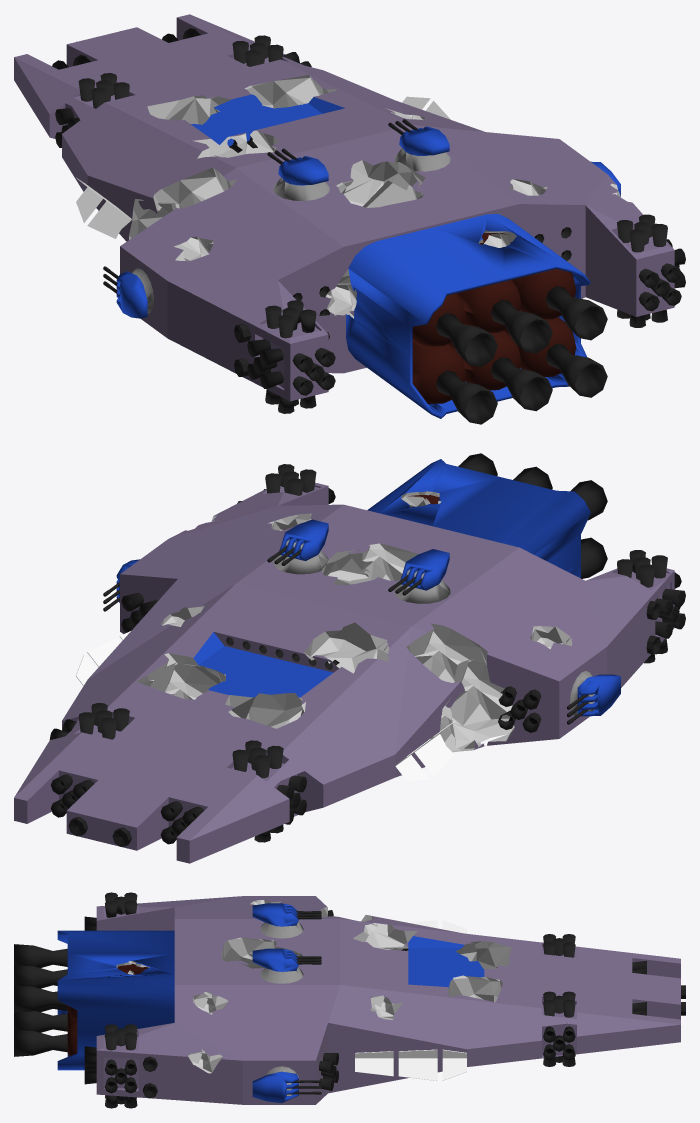
The model's file is Cruiserwreck.obj.
The picture shows the model from 3 angles, top to bottom: view 1: azimuth 30°, elevation 25°; view 2: azimuth 150°, elevation 25°; view 3: azimuth 270°, elevation 25°; orthographic projection. The views are drawn at different scales.
Parts seen in each view (by area): view 1: Cube; view 2: Cube; view 3: Cube.
Boxes of the visible parts, <box> form: Cube: <box>14,14,685,424</box>; Cube: <box>14,453,685,863</box>; Cube: <box>14,892,685,1108</box>.
Size of the model in its own units: 87.4 by 26.7 by 138.
